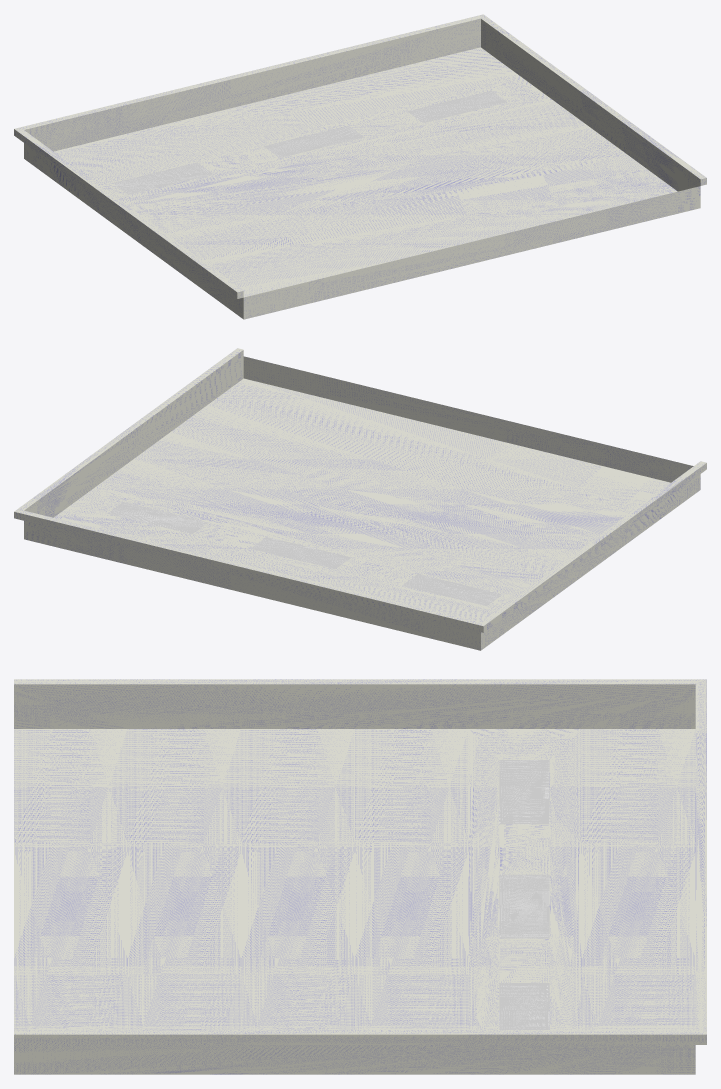
File: Roldeur.fbx
3 renders of one model, top to bottom at view 1: azimuth 30°, elevation 25°; view 2: azimuth 150°, elevation 25°; view 3: azimuth 270°, elevation 25°, orthographic. The views are drawn at different scales.
Parts seen in each view (by area): view 1: SketchUp, SketchUp.003, SketchUp.002, SketchUp.001; view 2: SketchUp, SketchUp.001, SketchUp.003, SketchUp.002; view 3: SketchUp, SketchUp.003, SketchUp.002, SketchUp.001.
Boxes of the visible parts, x1,y1,x2,y2 form: SketchUp: [14, 14, 706, 319]; SketchUp.003: [112, 162, 212, 194]; SketchUp.002: [264, 125, 364, 157]; SketchUp.001: [407, 90, 507, 122]; SketchUp: [14, 348, 706, 650]; SketchUp.001: [107, 502, 207, 534]; SketchUp.003: [402, 574, 502, 606]; SketchUp.002: [251, 537, 351, 569]; SketchUp: [14, 679, 706, 1074]; SketchUp.003: [499, 760, 549, 824]; SketchUp.002: [499, 874, 549, 938]; SketchUp.001: [499, 983, 549, 1029].
Size of the model in its own units: 282 by 16.51 by 232.
